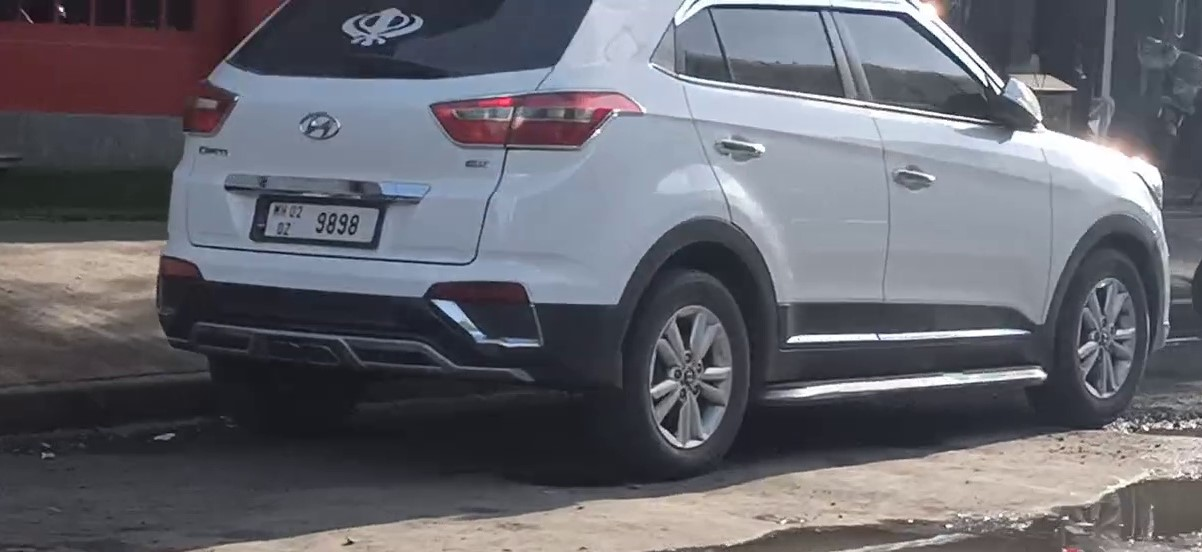MH02DZ9898: (255, 194, 379, 246)
